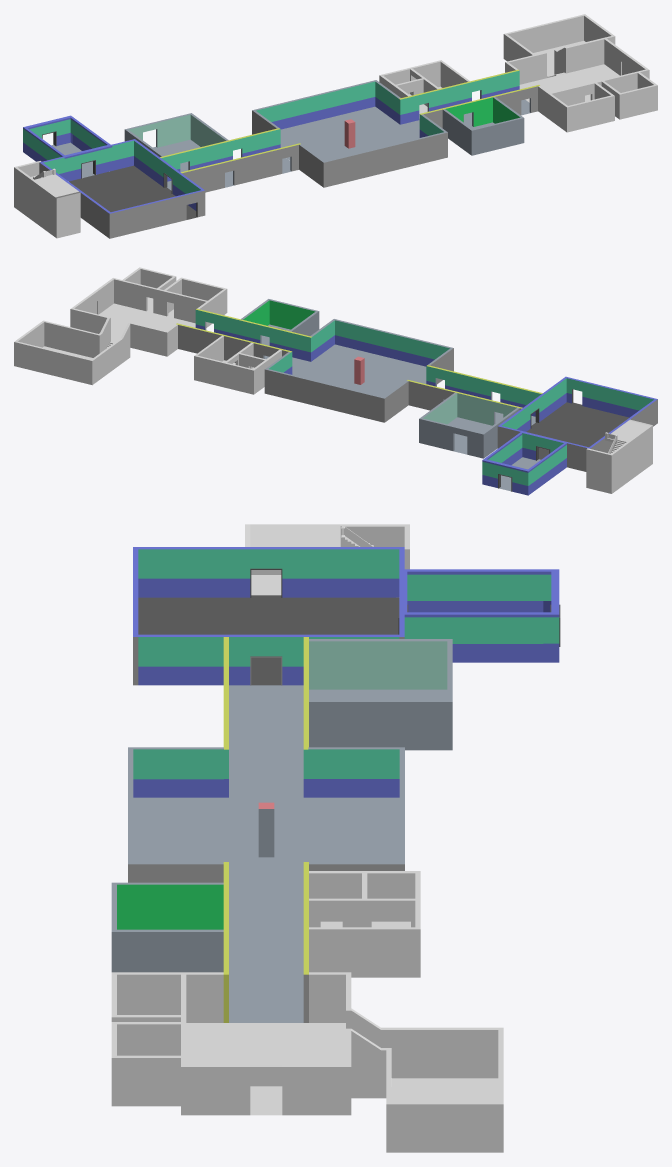
Rendered from Piso1Estructurado.glb.
3 views of the same model, one above another, from view 1: azimuth 30°, elevation 25°; view 2: azimuth 150°, elevation 25°; view 3: azimuth 270°, elevation 25° (orthographic). The views are drawn at different scales.
Visible parts, largest first — view 1: Recepcion1-col, Lobby1-col, FinalPasillo-col, Pasillo1-col, Pasillo2-col, EntradaPrincipal-col, Pasillo-col, Pediatra-col, Morgue-col, OficinaDr-col, Radiografia-col, Seguridad-col (+1 smaller); view 2: Recepcion1-col, Lobby1-col, FinalPasillo-col, Morgue-col, OficinaDr-col, Pasillo2-col, EntradaPrincipal-col, Pasillo-col, Pasillo1-col, Radiografia-col, Pediatra-col, Seguridad-col (+1 smaller); view 3: Recepcion1-col, Lobby1-col, FinalPasillo-col, OficinaDr-col, Morgue-col, EntradaPrincipal-col, Radiografia-col, Pasillo2-col, Pediatra-col, Pasillo1-col, Archivos-col, Pasillo-col (+1 smaller).
Part boxes in pixels (left/top/right/bottom): Recepcion1-col: left=252, top=80, right=447, bottom=187; Lobby1-col: left=39, top=139, right=205, bottom=238; FinalPasillo-col: left=505, top=37, right=649, bottom=118; Pasillo1-col: left=160, top=128, right=300, bottom=192; Pasillo2-col: left=399, top=69, right=539, bottom=138; EntradaPrincipal-col: left=23, top=115, right=112, bottom=181; Pasillo-col: left=14, top=161, right=80, bottom=238; Pediatra-col: left=442, top=97, right=524, bottom=155; Morgue-col: left=503, top=14, right=615, bottom=76; OficinaDr-col: left=124, top=113, right=228, bottom=172; Radiografia-col: left=379, top=60, right=469, bottom=118; Seguridad-col: left=549, top=83, right=614, bottom=132; Recepcion1-col: left=264, top=319, right=453, bottom=422; Lobby1-col: left=497, top=376, right=657, bottom=471; FinalPasillo-col: left=70, top=278, right=209, bottom=364; Morgue-col: left=14, top=320, right=120, bottom=385; OficinaDr-col: left=419, top=392, right=519, bottom=458; Pasillo2-col: left=176, top=308, right=312, bottom=374; EntradaPrincipal-col: left=482, top=431, right=567, bottom=495; Pasillo-col: left=586, top=419, right=652, bottom=493; Pasillo1-col: left=407, top=365, right=542, bottom=425; Radiografia-col: left=194, top=335, right=281, bottom=394; Pediatra-col: left=241, top=299, right=319, bottom=345; Seguridad-col: left=164, top=277, right=227, bottom=325; Recepcion1-col: left=128, top=747, right=404, bottom=910; Lobby1-col: left=133, top=547, right=404, bottom=685; FinalPasillo-col: left=181, top=972, right=391, bottom=1115; OficinaDr-col: left=309, top=639, right=452, bottom=750; Morgue-col: left=386, top=1027, right=503, bottom=1152; EntradaPrincipal-col: left=398, top=569, right=560, bottom=662; Radiografia-col: left=309, top=871, right=420, bottom=977; Pasillo2-col: left=223, top=862, right=308, bottom=1022; Pediatra-col: left=111, top=882, right=223, bottom=972; Pasillo1-col: left=223, top=637, right=308, bottom=797; Archivos-col: left=111, top=1022, right=180, bottom=1106; Pasillo-col: left=245, top=524, right=409, bottom=595.
Size of the model in its own units: 125 by 9.05 by 42.11.
